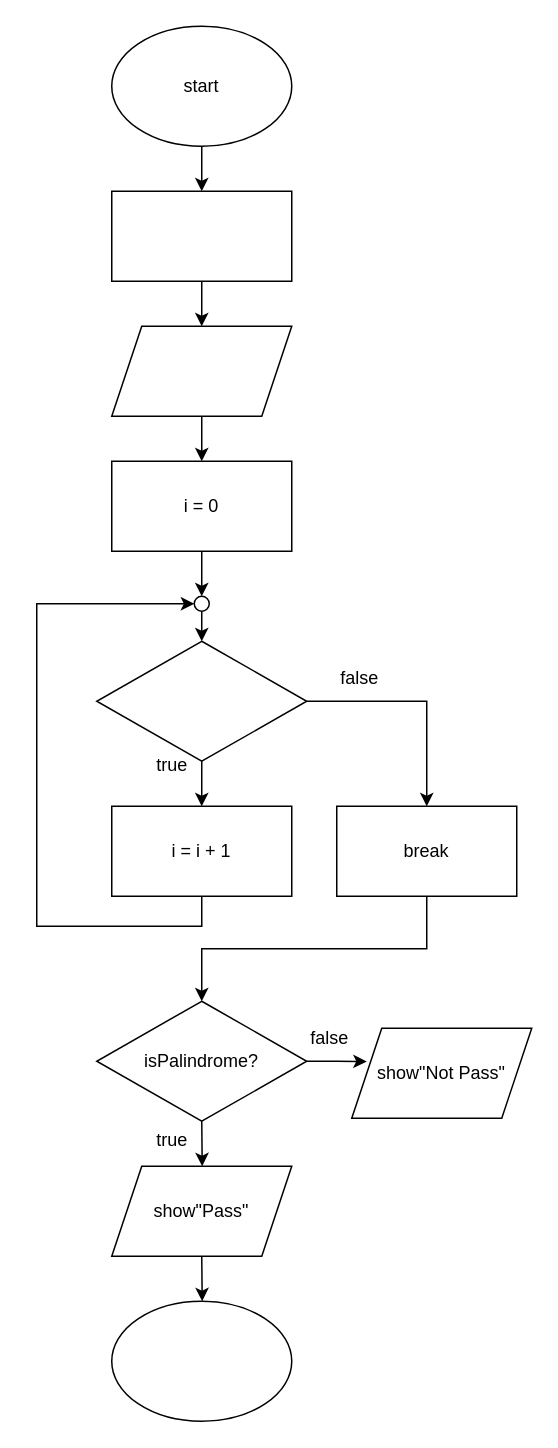
This 558x1448 diagram has some shape labels left out. The shapes that lost their labels are listed below. From the top down, each one's centre as x and y in pixels, then its label:
(x=201, y=235): รับค่าจากผู้ใช้
(x=201, y=370): show"Enter word "
(x=201, y=700): i < len?
(x=201, y=1360): end
